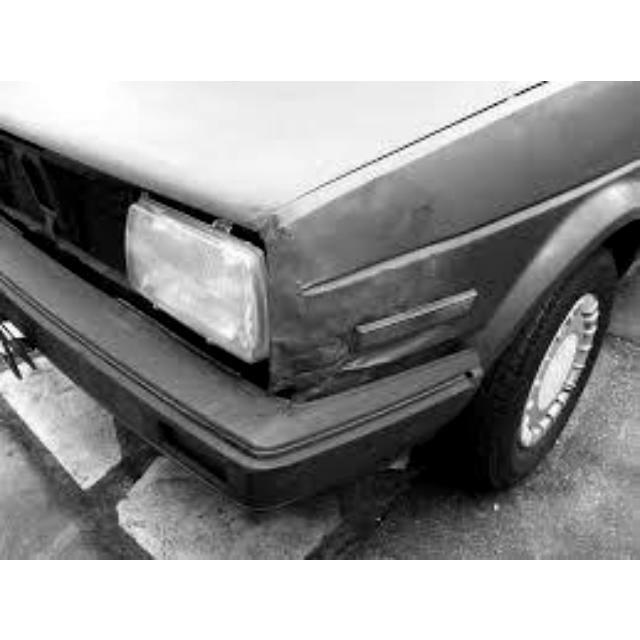front-bumper-dent: (131, 321, 437, 476)
